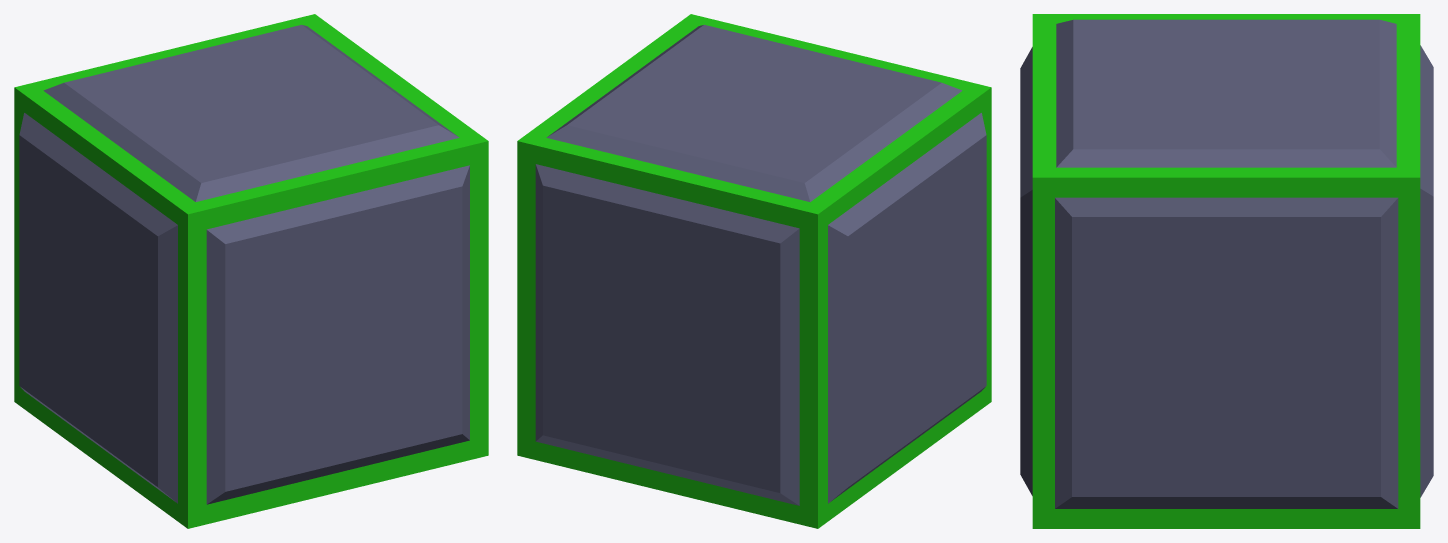
Rendered from kub_s_oknami.fbx.
3 views of the same model, side by side, from view 1: azimuth 30°, elevation 25°; view 2: azimuth 150°, elevation 25°; view 3: azimuth 270°, elevation 25° (orthographic). The views are drawn at different scales.
Visible parts, largest first — view 1: Cube; view 2: Cube; view 3: Cube.
Part boxes in pixels (x1,y1,x2,y2): Cube: [14, 14, 488, 528]; Cube: [517, 14, 991, 528]; Cube: [1020, 14, 1433, 528].
Bounding box in the file's own units: 2.13 × 2.12 × 2.13.
